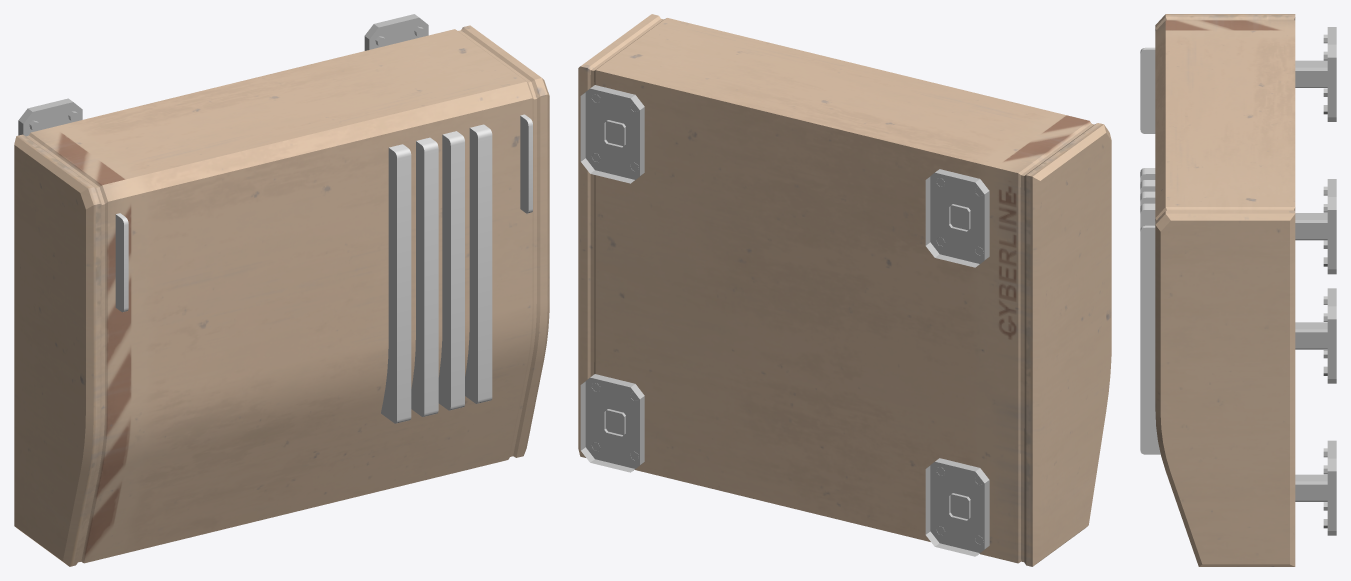
File: KB3D_CBP_UtilityDevice_H.fbx
The picture shows the model from 3 angles, left to right: view 1: azimuth 30°, elevation 25°; view 2: azimuth 150°, elevation 25°; view 3: azimuth 270°, elevation 25°; orthographic projection. The views are drawn at different scales.
Parts seen in each view (by area): view 1: KB3D_CBP_UtilityDevice_H_Main; view 2: KB3D_CBP_UtilityDevice_H_Main; view 3: KB3D_CBP_UtilityDevice_H_Main.
Part boxes in pixels (x1,y1,x2,y2): KB3D_CBP_UtilityDevice_H_Main: [14, 14, 549, 566]; KB3D_CBP_UtilityDevice_H_Main: [578, 14, 1111, 566]; KB3D_CBP_UtilityDevice_H_Main: [1140, 14, 1336, 566].
Size of the model in its own units: 102 by 82.68 by 41.36.
